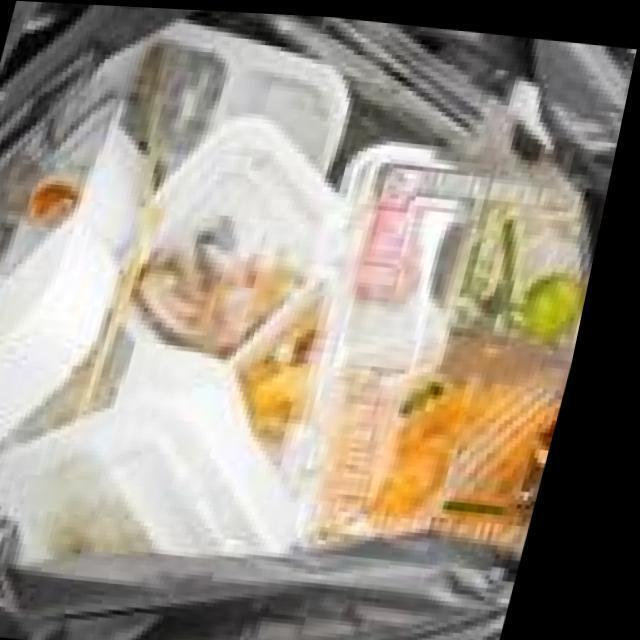Disposable: (300, 139, 597, 539), (0, 311, 319, 560), (0, 95, 152, 459), (150, 112, 346, 353)
Garbage: (0, 1, 602, 600)
